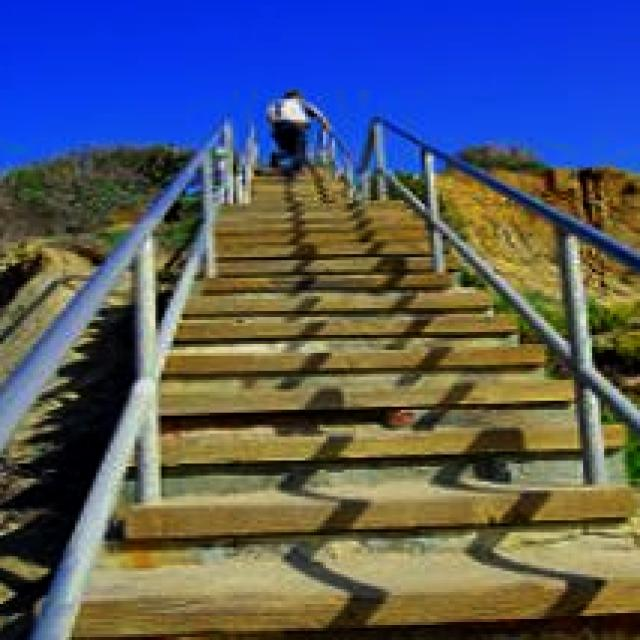upstair: (168, 309, 640, 620)
